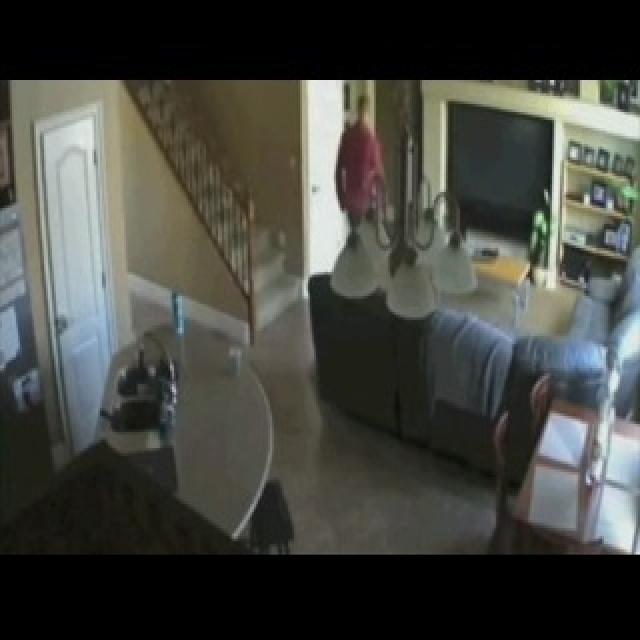thief: (333, 89, 380, 244)
